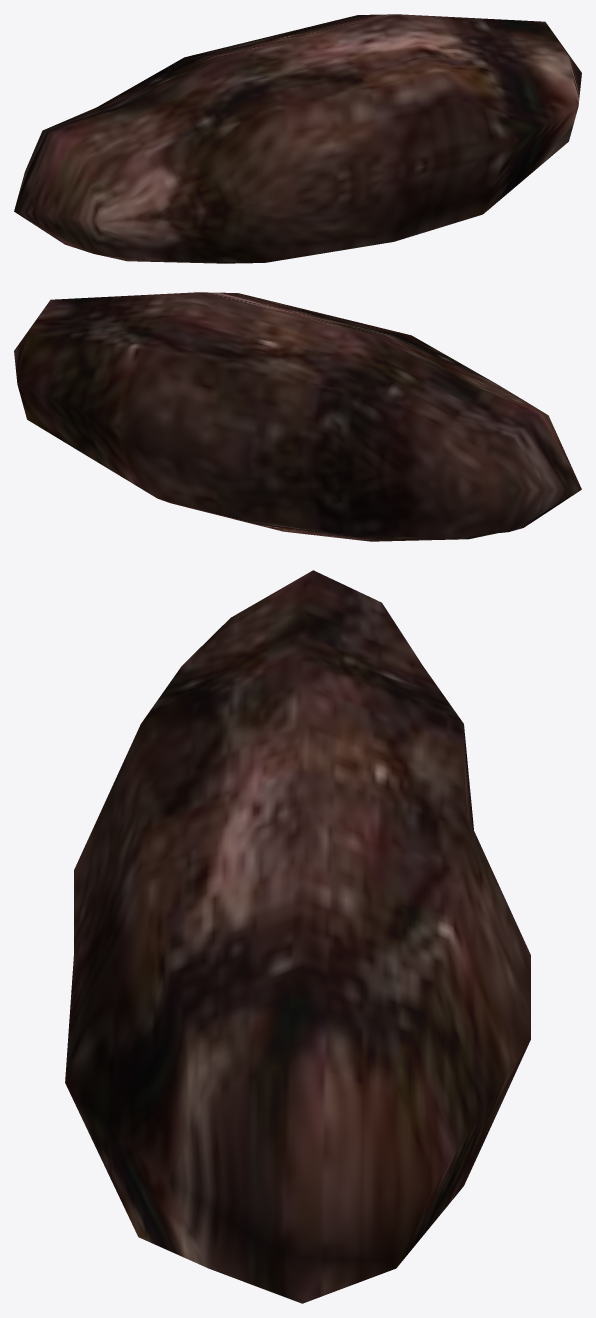
The model's file is turd.fbx.
3 views of the same model, one above another, from view 1: azimuth 30°, elevation 25°; view 2: azimuth 150°, elevation 25°; view 3: azimuth 270°, elevation 25° (orthographic). The views are drawn at different scales.
Visible parts, largest first — view 1: turd_mesh; view 2: turd_mesh; view 3: turd_mesh.
Part boxes in pixels (x1=…): turd_mesh: x1=14, y1=14, x2=581, y2=263; turd_mesh: x1=14, y1=292, x2=581, y2=541; turd_mesh: x1=65, y1=570, x2=530, y2=1303.
Size of the model in its own units: 6.09 by 2.24 by 2.16.
